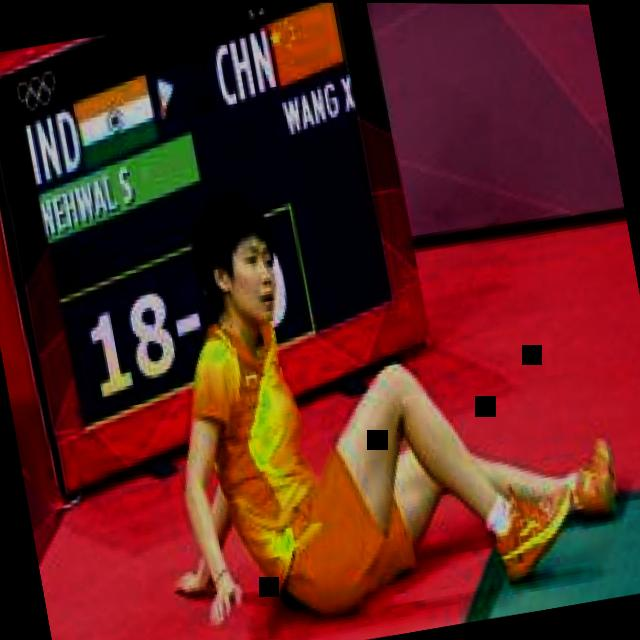Fall-Detected: (96, 106, 640, 640)
